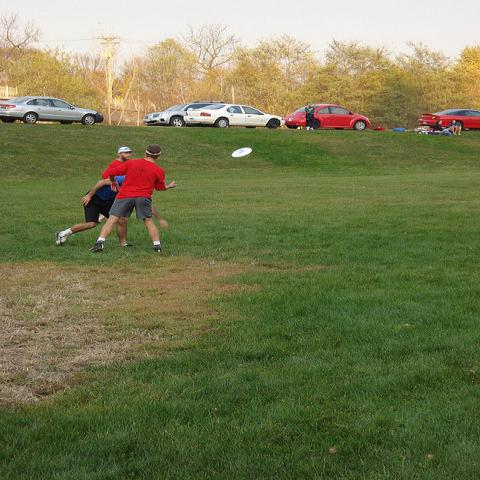car: (0, 96, 105, 125), (184, 103, 286, 129), (284, 103, 370, 130), (142, 101, 223, 127), (418, 108, 479, 130)
